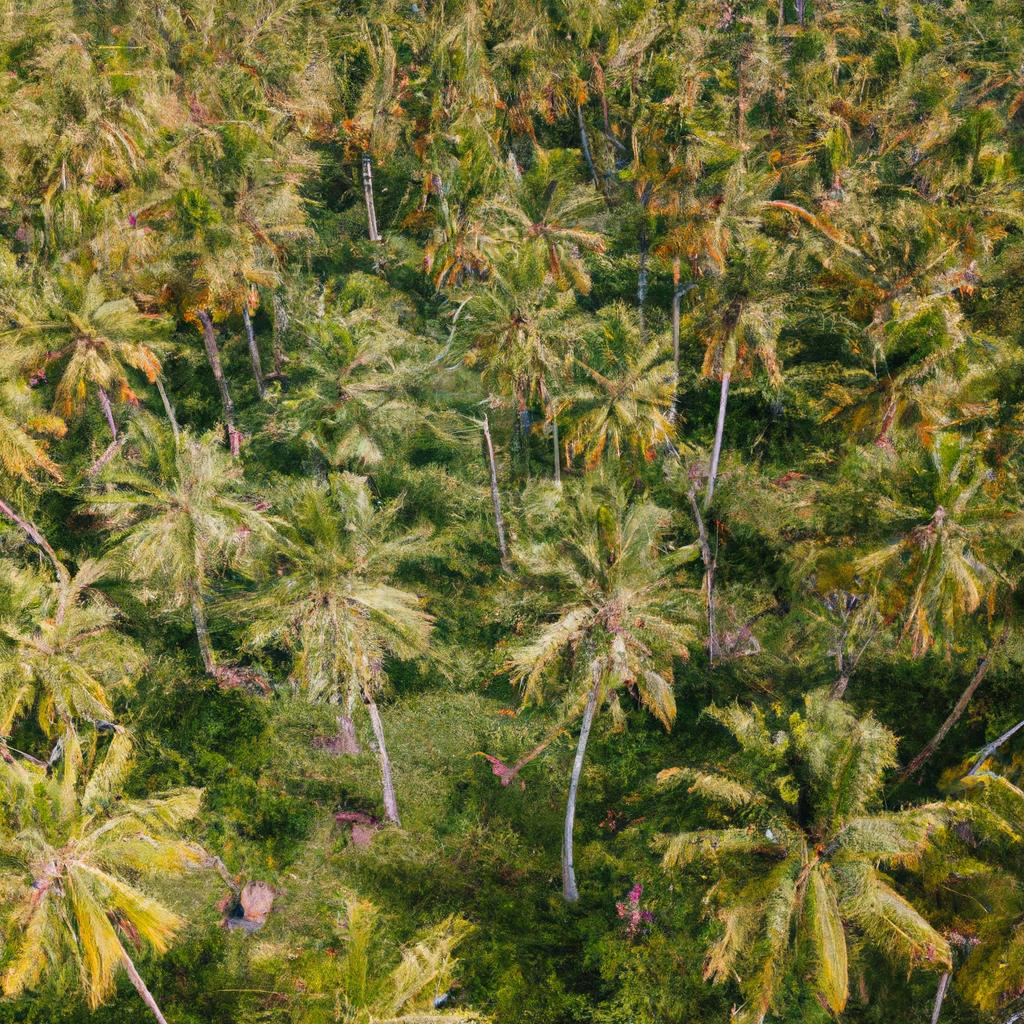coconut_tree: (650, 678, 969, 1012), (0, 710, 242, 1007), (462, 459, 719, 732), (262, 451, 448, 729), (80, 418, 273, 632), (547, 297, 706, 474)
